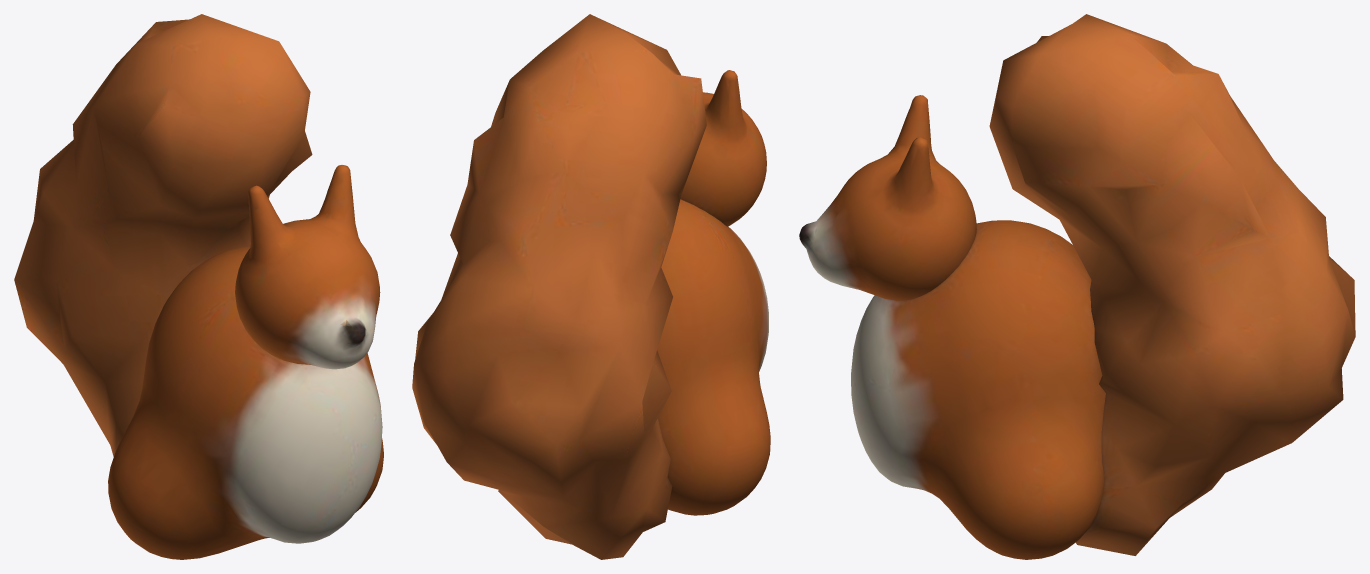
File: animal_squirrel.glb
3 renders of one model, left to right at view 1: azimuth 30°, elevation 25°; view 2: azimuth 150°, elevation 25°; view 3: azimuth 270°, elevation 25°, orthographic. The views are drawn at different scales.
Visible parts, largest first — view 1: tail, animal_squirrel, head; view 2: tail, animal_squirrel, head; view 3: tail, animal_squirrel, head.
Boxes of the visible parts, x1,y1,x2,y2 form: tail: [14, 14, 312, 456]; animal_squirrel: [108, 247, 383, 559]; head: [235, 165, 380, 369]; tail: [412, 14, 706, 559]; animal_squirrel: [657, 199, 770, 515]; head: [680, 70, 766, 226]; tail: [989, 14, 1355, 555]; animal_squirrel: [851, 220, 1105, 559]; head: [799, 95, 976, 300].
Size of the model in its own units: 0.1199 by 0.2267 by 0.2234.
Materials: 1 (1 with a texture image).
